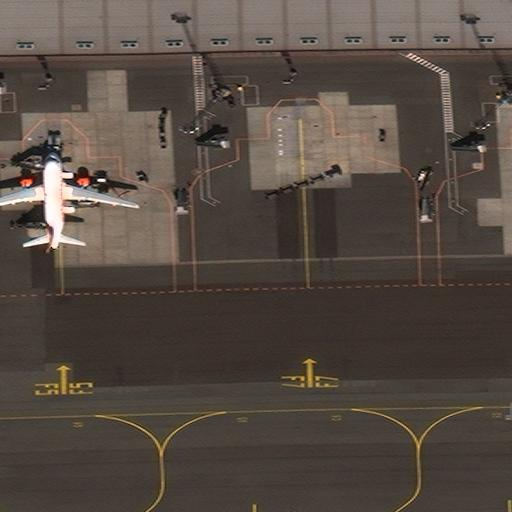Medium Civil Transport: (0, 151, 139, 251)
